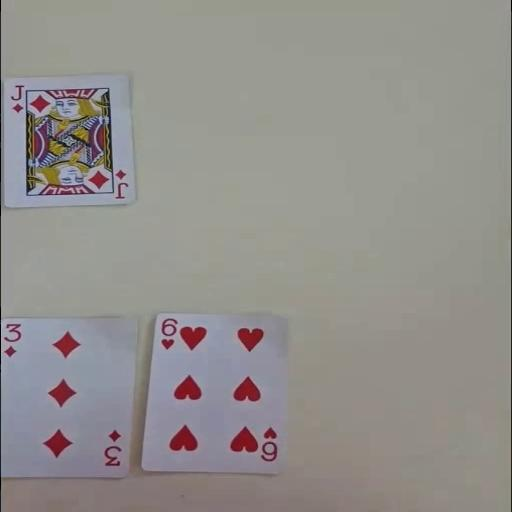3: (101, 428, 124, 468), (2, 321, 22, 358)
6: (257, 425, 279, 462), (158, 316, 179, 351)
J: (112, 167, 129, 199), (8, 83, 24, 114)
